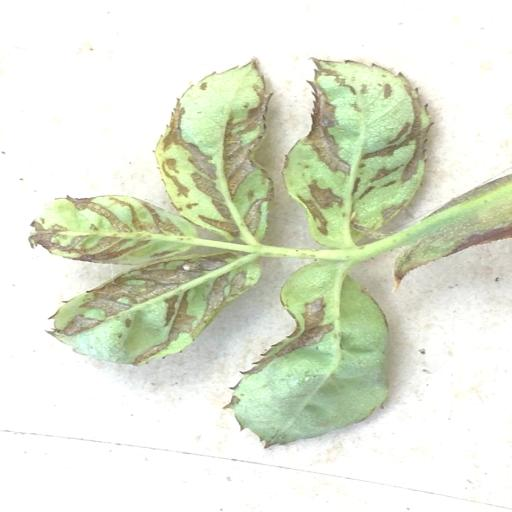thrip: (229, 262, 388, 446), (285, 60, 429, 246), (51, 252, 259, 363), (155, 61, 271, 241), (371, 175, 511, 287), (29, 196, 197, 265)
